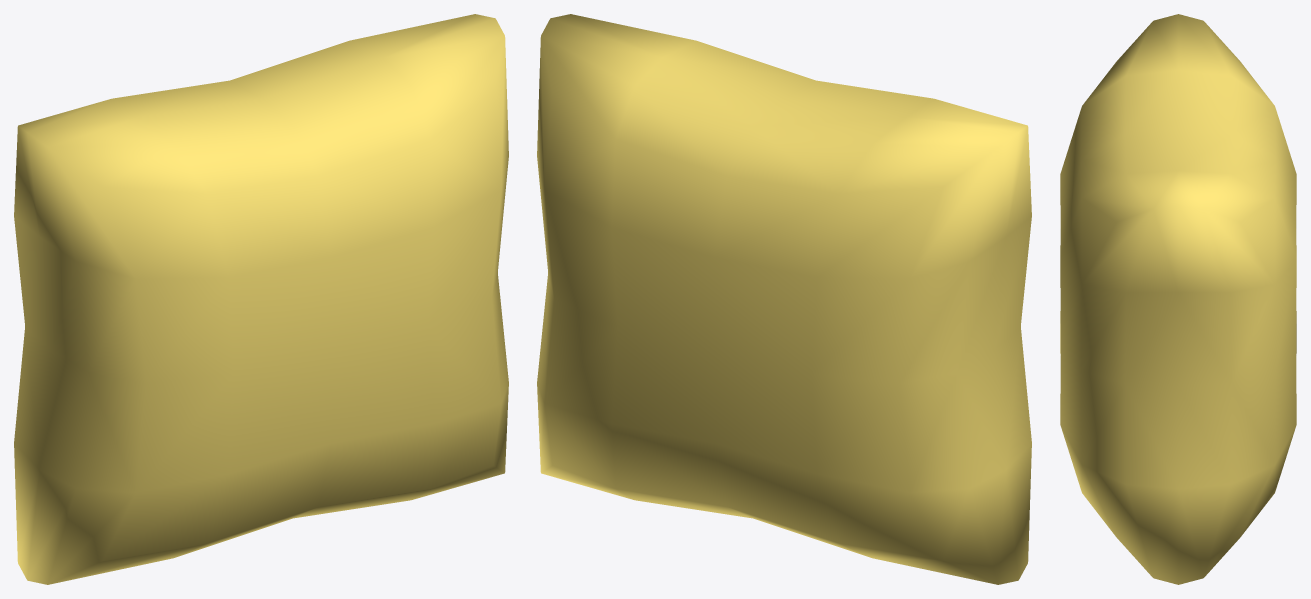
File: Pillow_24.glb
The picture shows the model from 3 angles, left to right: view 1: azimuth 30°, elevation 25°; view 2: azimuth 150°, elevation 25°; view 3: azimuth 270°, elevation 25°; orthographic projection. The views are drawn at different scales.
Parts seen in each view (by area): view 1: Pillow_24; view 2: Pillow_24; view 3: Pillow_24.
Boxes of the visible parts, left/top/right/bottom form: Pillow_24: left=14, top=14, right=508, bottom=584; Pillow_24: left=537, top=14, right=1031, bottom=584; Pillow_24: left=1060, top=14, right=1296, bottom=584.
Bounding box in the file's own units: 0.6192 × 0.566 × 0.3209.
1 material, 1 textured.
